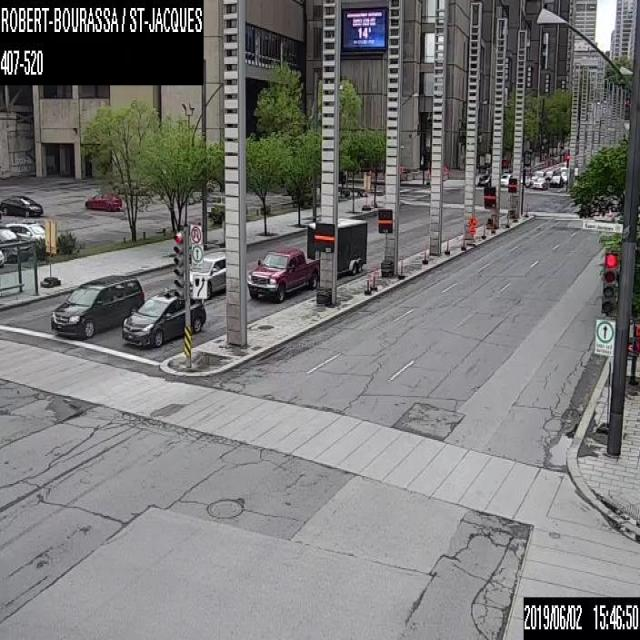construction: (466, 216, 476, 237), (399, 261, 403, 275), (366, 277, 369, 291), (446, 237, 449, 251), (372, 275, 375, 288), (462, 233, 465, 246), (482, 224, 485, 237), (423, 248, 426, 260), (491, 220, 494, 232), (513, 208, 516, 220), (506, 212, 509, 224), (525, 205, 528, 216)
vehicle: (246, 216, 368, 302), (48, 272, 145, 336), (121, 290, 206, 350), (184, 249, 226, 299), (6, 220, 44, 249), (0, 226, 30, 261), (0, 196, 42, 216), (84, 191, 124, 210), (204, 193, 224, 218), (531, 170, 544, 185), (476, 173, 490, 186), (534, 176, 547, 188), (500, 171, 511, 185), (549, 174, 562, 185), (544, 167, 556, 178), (560, 170, 567, 182), (0, 249, 4, 266)
